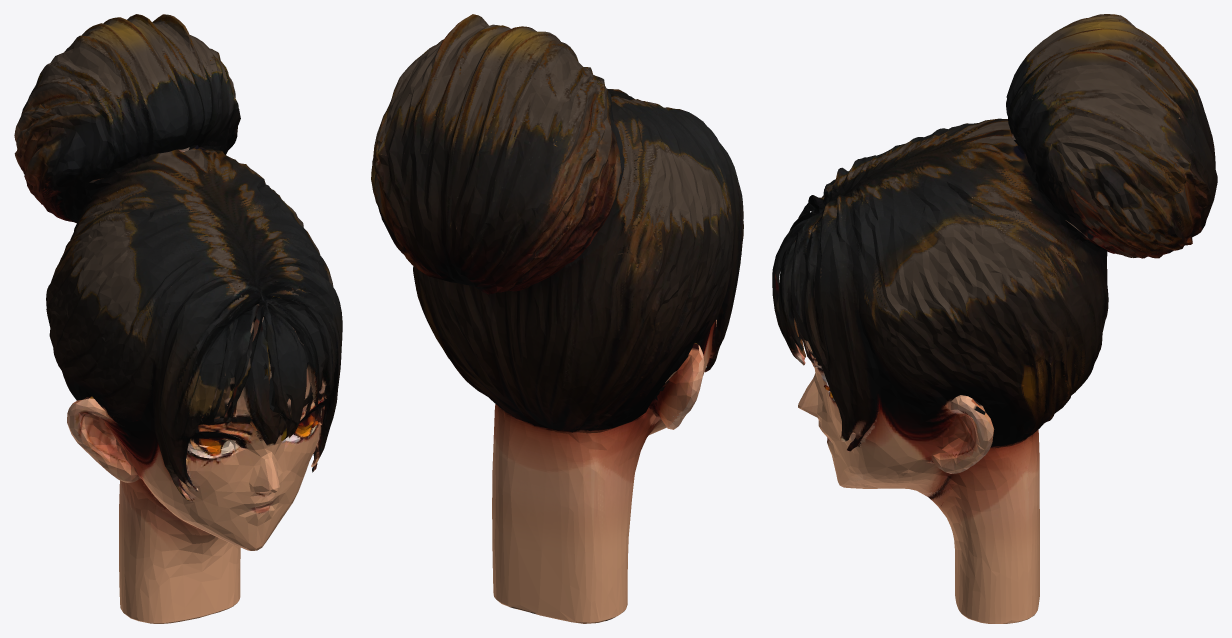
File: side_ijako_repaired_atlas.glb
The picture shows the model from 3 angles, left to right: view 1: azimuth 30°, elevation 25°; view 2: azimuth 150°, elevation 25°; view 3: azimuth 270°, elevation 25°; orthographic projection. The views are drawn at different scales.
Parts seen in each view (by area): view 1: temp_mesh.ply; view 2: temp_mesh.ply; view 3: temp_mesh.ply.
Boxes of the visible parts, x1,y1,x2,y2 form: temp_mesh.ply: (14, 14, 342, 623); temp_mesh.ply: (371, 14, 743, 623); temp_mesh.ply: (772, 14, 1217, 623).
Size of the model in its own units: 0.8811 by 1.93 by 1.37.
Materials: 1 (1 with a texture image).
